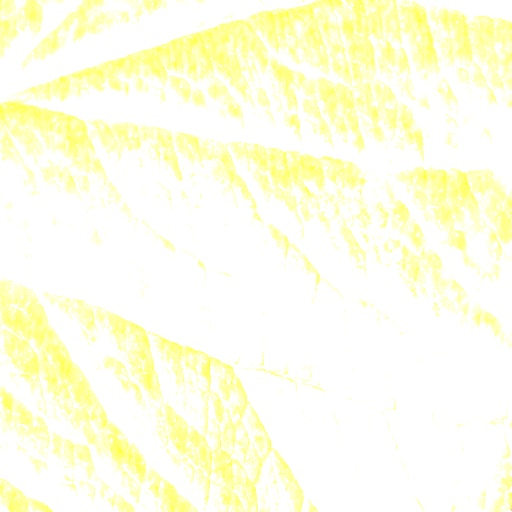Angular Leafspot: (32, 134, 501, 498)
